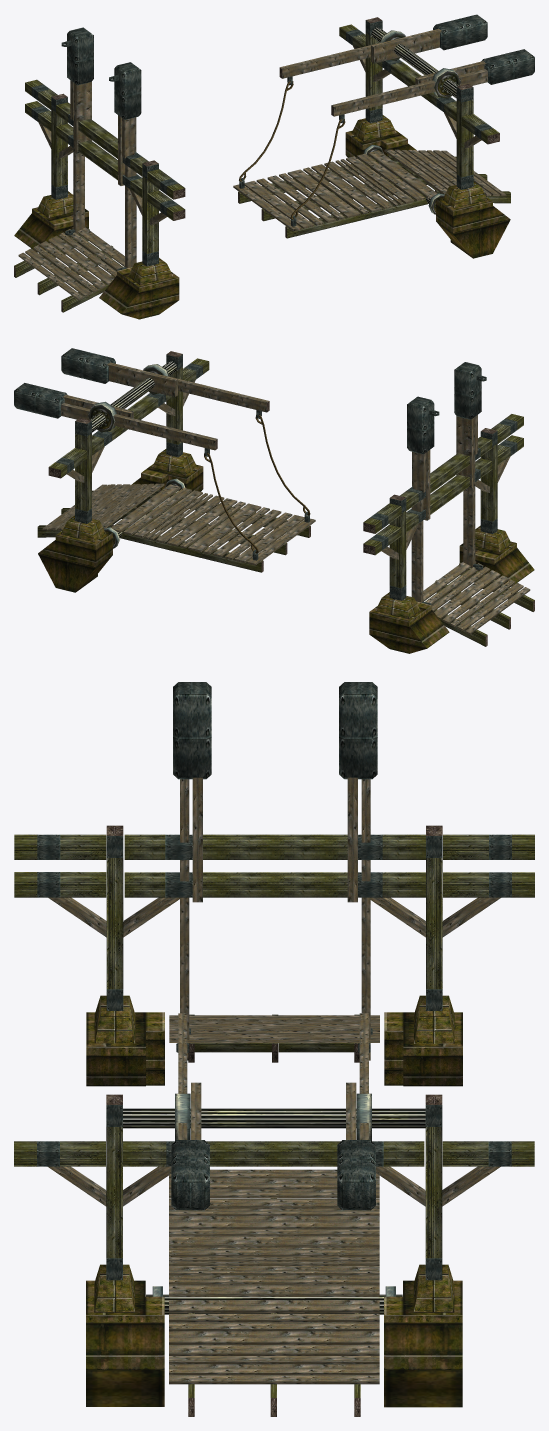
The model's file is BRIDGE_STATIC.fbx.
3 renders of one model, top to bottom at view 1: azimuth 30°, elevation 25°; view 2: azimuth 150°, elevation 25°; view 3: azimuth 270°, elevation 25°, orthographic. The views are drawn at different scales.
Visible parts, largest first — view 1: BRIDGE_STATIC; view 2: BRIDGE_STATIC; view 3: BRIDGE_STATIC.
Part boxes in pixels (box(x1,y1,x2,y2)): BRIDGE_STATIC: box(14, 14, 534, 319); BRIDGE_STATIC: box(14, 348, 534, 653); BRIDGE_STATIC: box(14, 682, 534, 1416).
Size of the model in its own units: 391674 by 197000 by 215015.
Materials: 11 (11 with a texture image).
